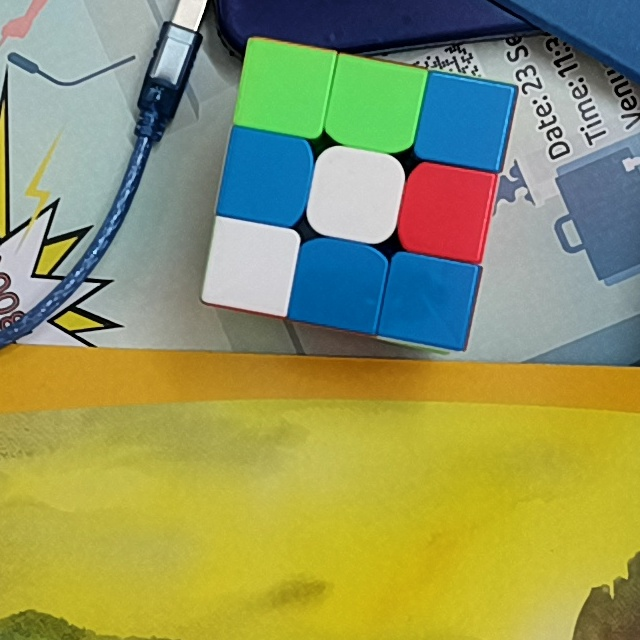tile: (232, 140, 302, 214), (214, 229, 287, 298), (339, 69, 410, 139), (251, 56, 321, 125), (322, 159, 390, 230), (303, 251, 371, 319), (414, 177, 480, 247), (430, 89, 504, 151), (396, 269, 464, 335)
